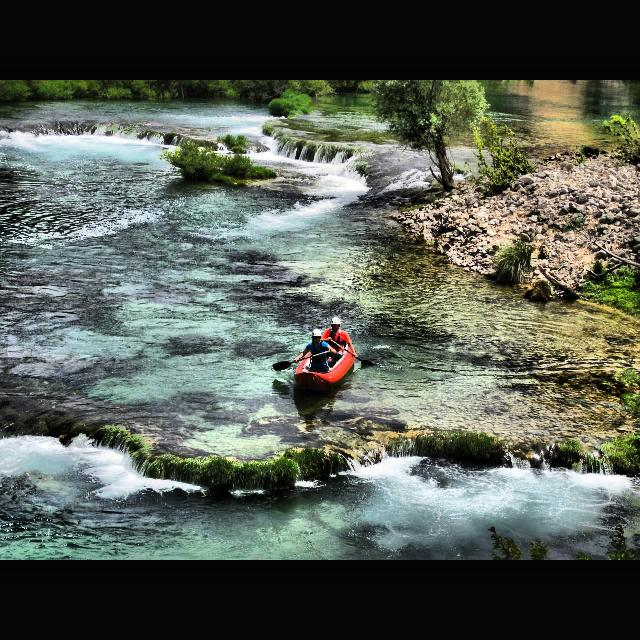kayak: (294, 331, 356, 391)
